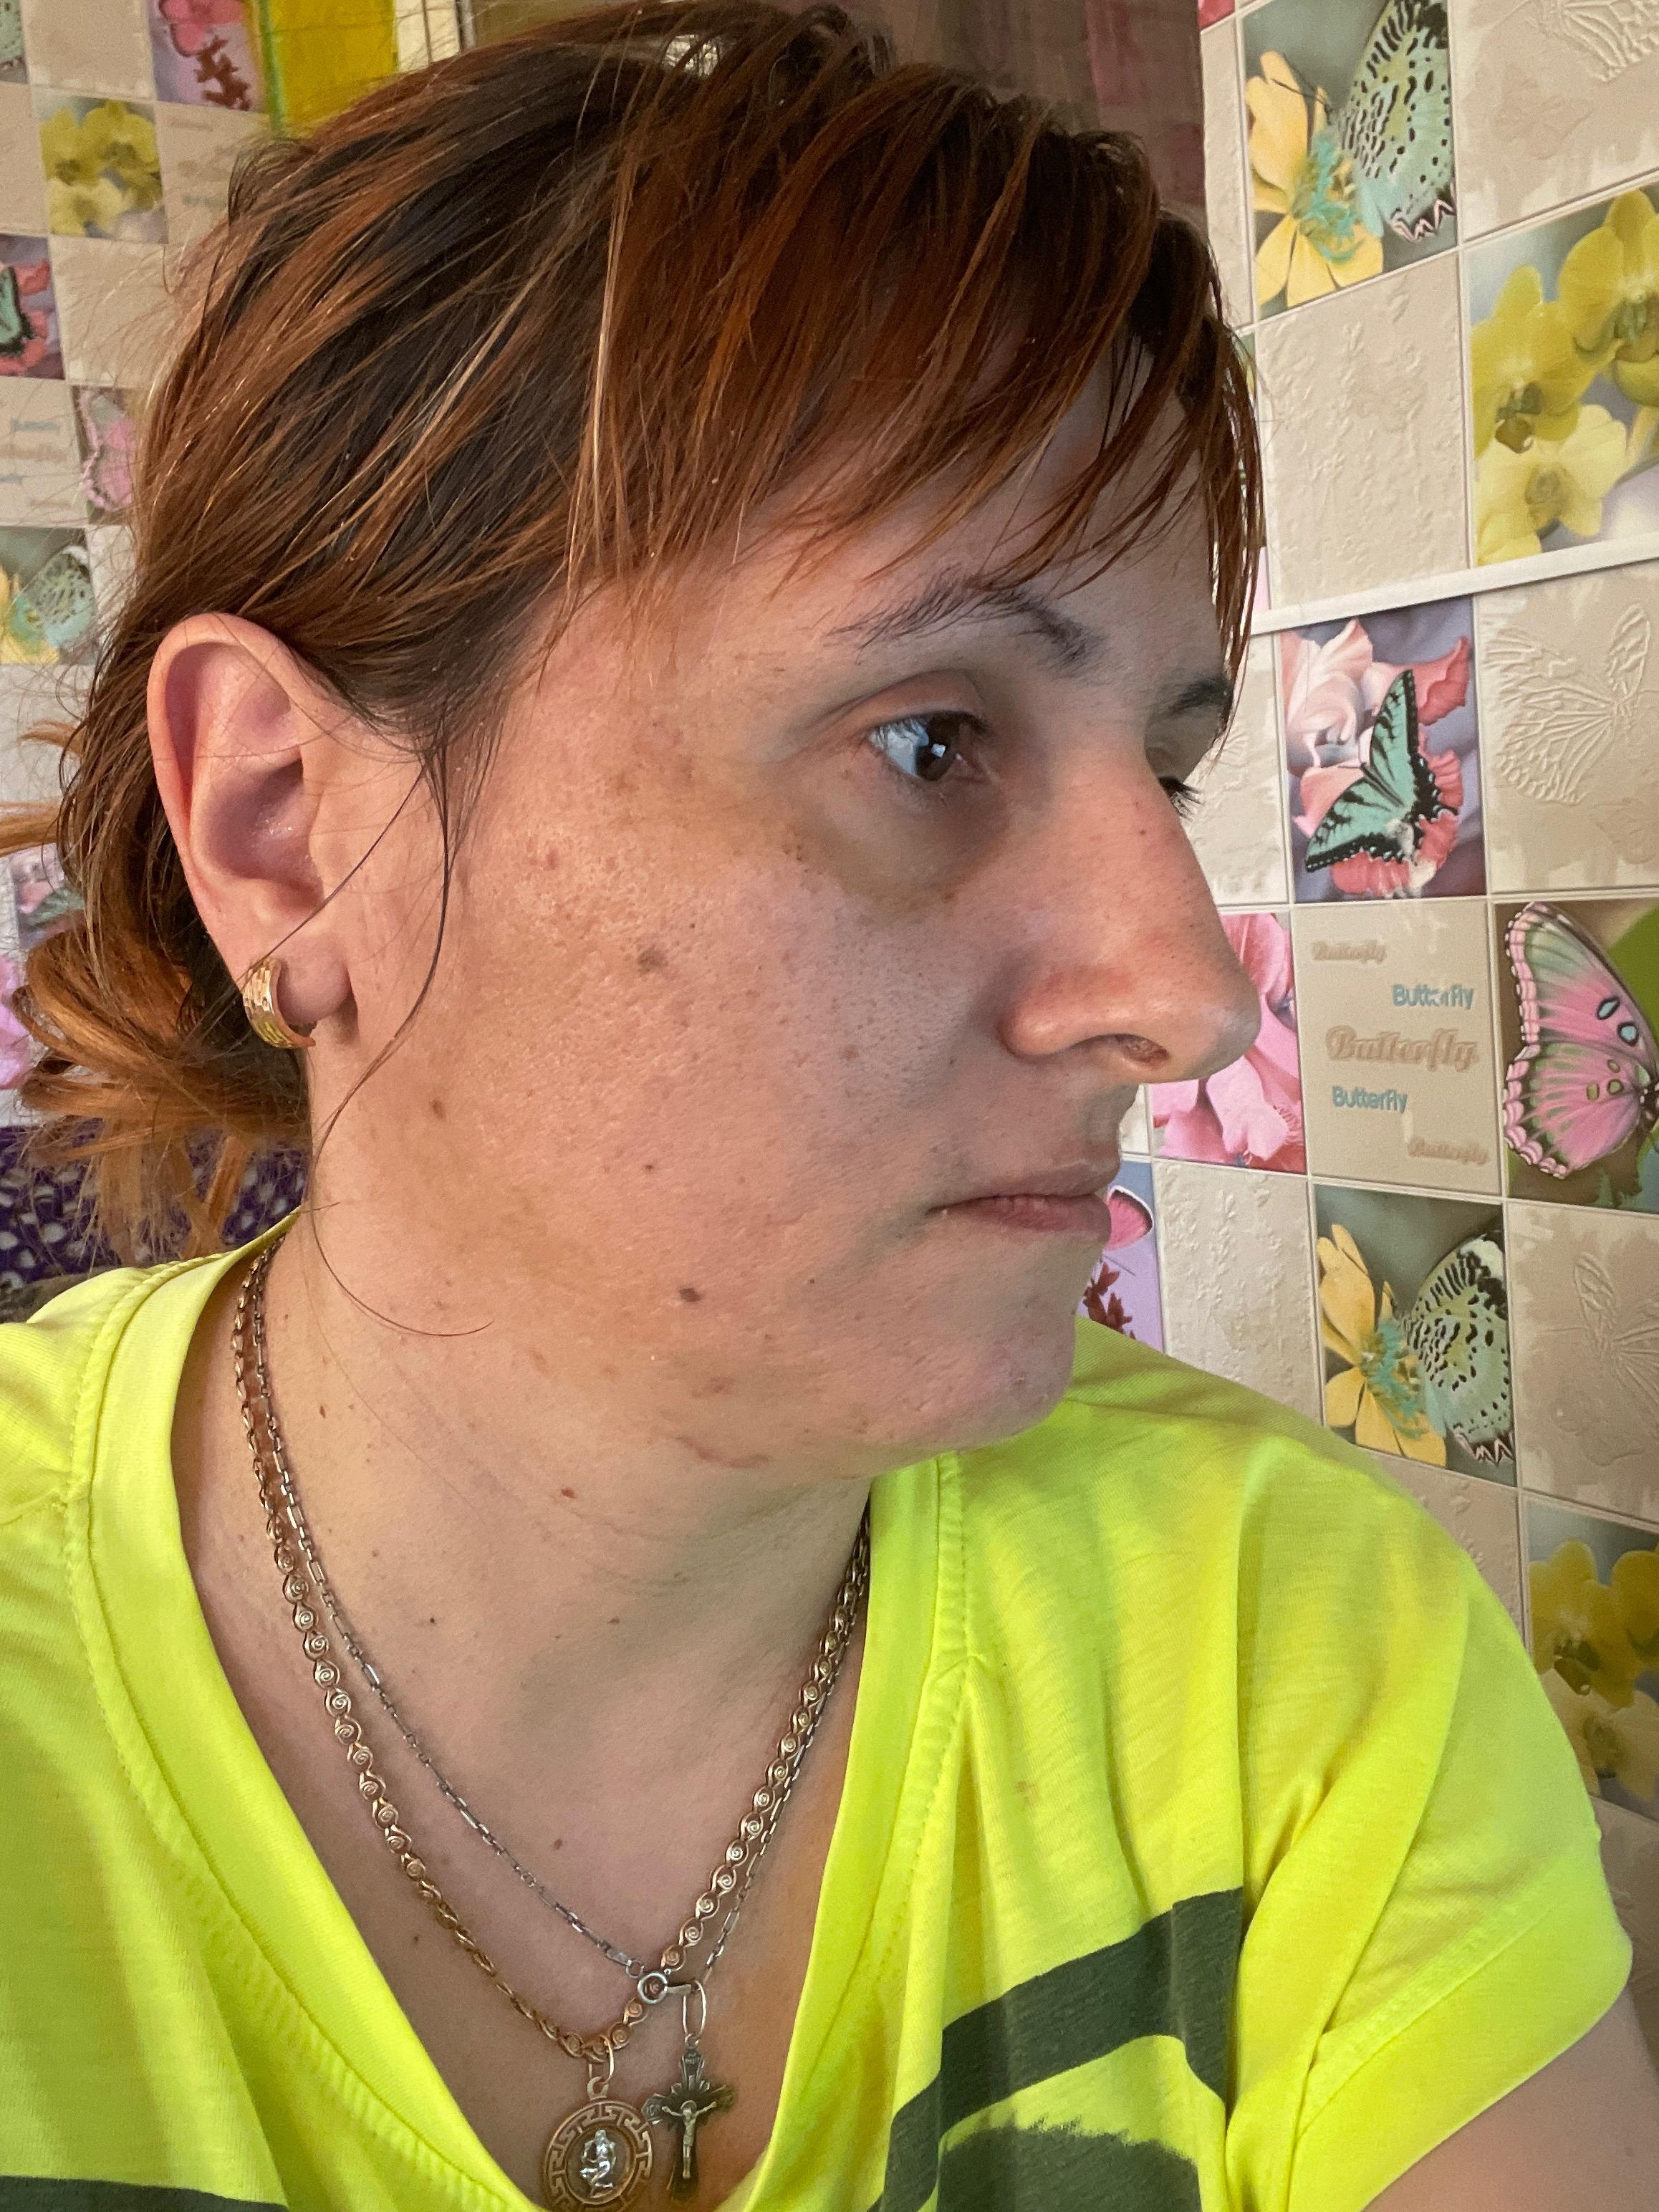Acne: (1028, 961, 1138, 1000), (532, 838, 568, 885), (831, 1036, 864, 1071), (1007, 1366, 1037, 1400), (1140, 925, 1175, 951)
Englarged-Pores: (795, 932, 969, 1094), (504, 838, 739, 954), (573, 981, 723, 1094)
Eyebags: (777, 784, 1014, 909)
